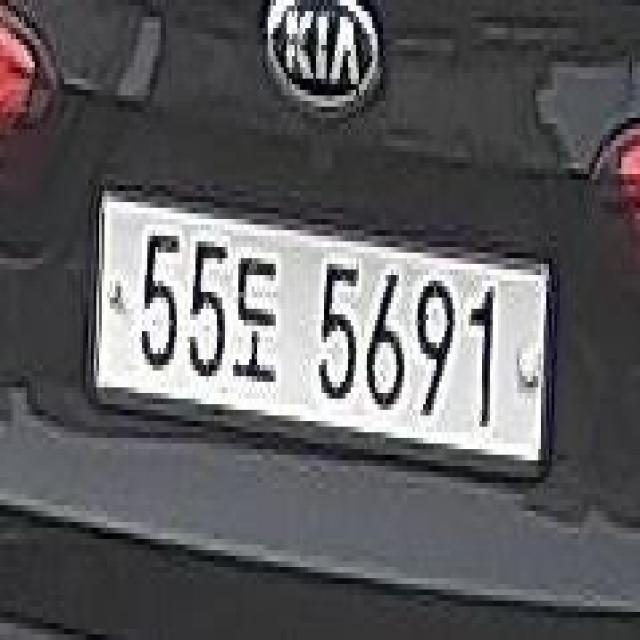1: (461, 276, 499, 428)
5: (135, 221, 180, 370), (184, 230, 228, 378), (318, 245, 360, 400)
6: (362, 265, 410, 410)
9: (411, 266, 458, 417)
do: (234, 248, 280, 389)
license_plate: (74, 155, 569, 502)
